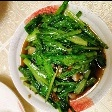youmaicai: (18, 0, 111, 110)
